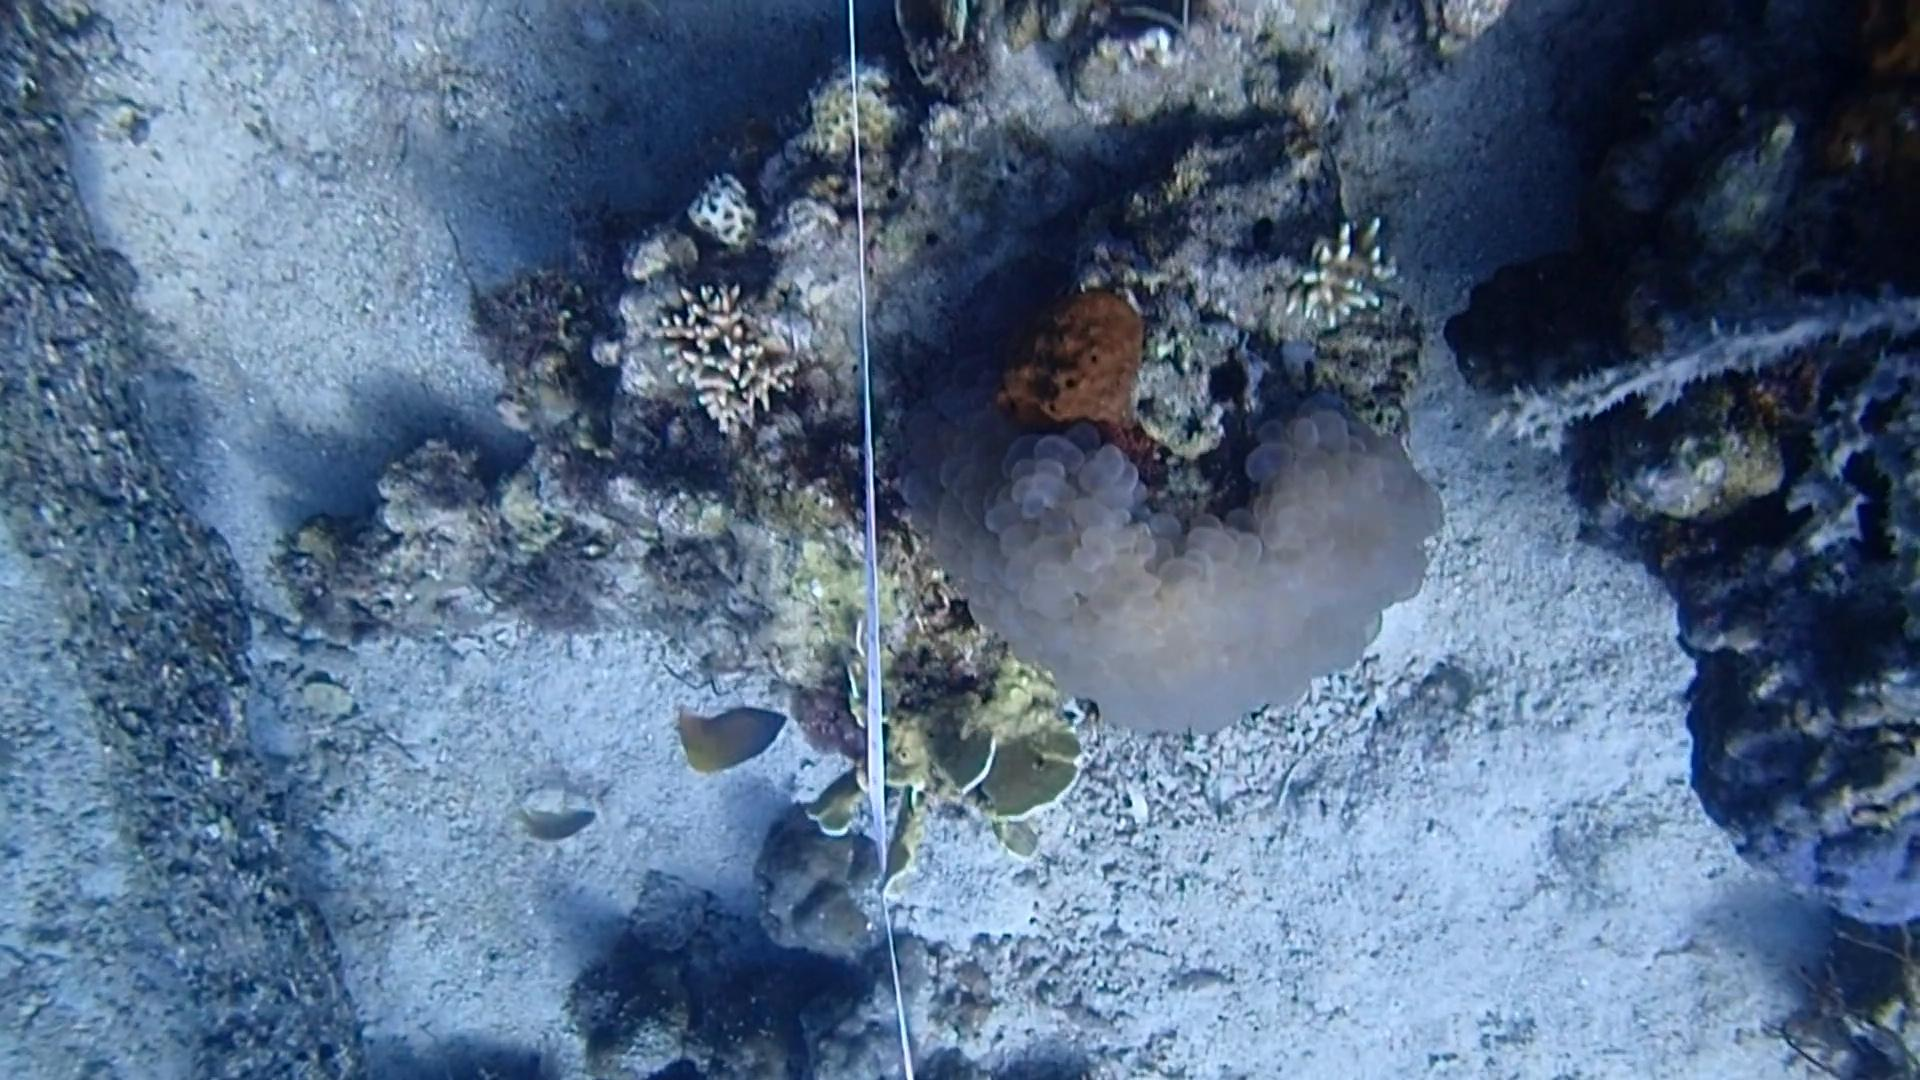Light Fish: (504, 800, 615, 853)
Yellow-Blue Fish: (665, 696, 793, 781)
